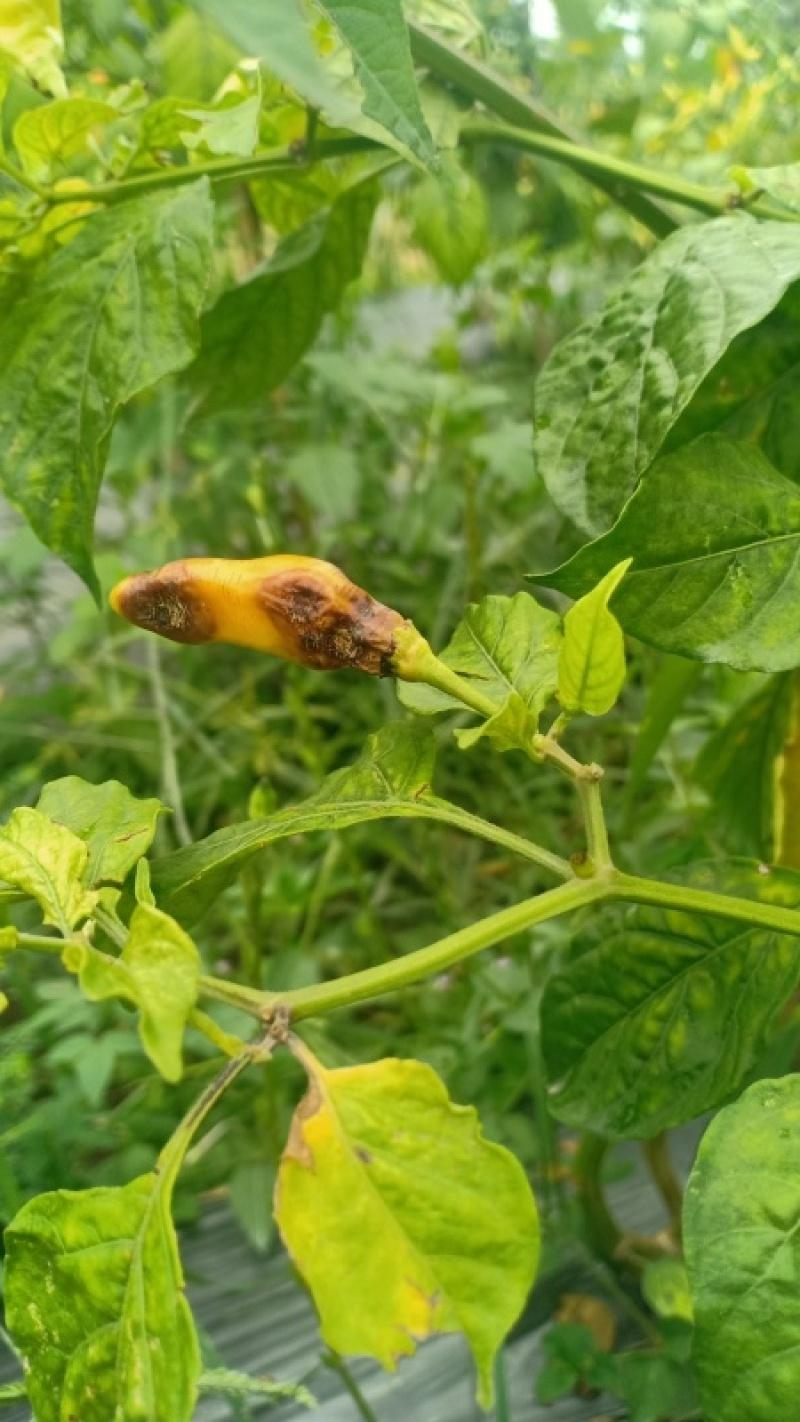antraknosa: (106, 550, 415, 676)
